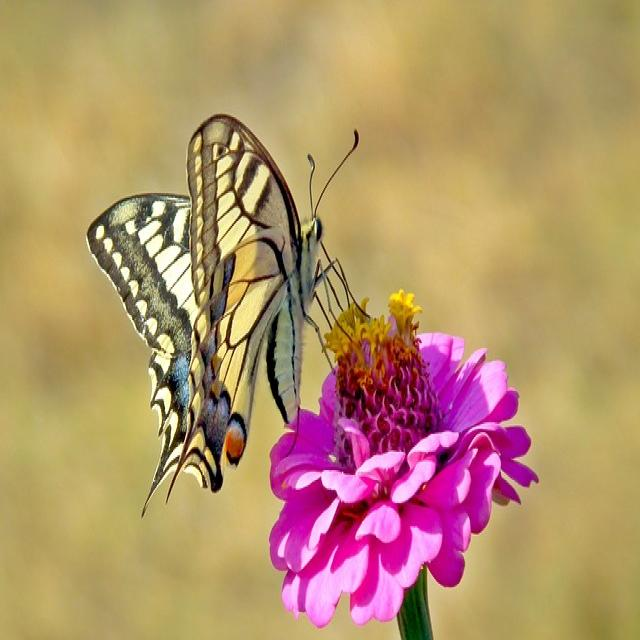butterfly: (86, 115, 328, 501)
